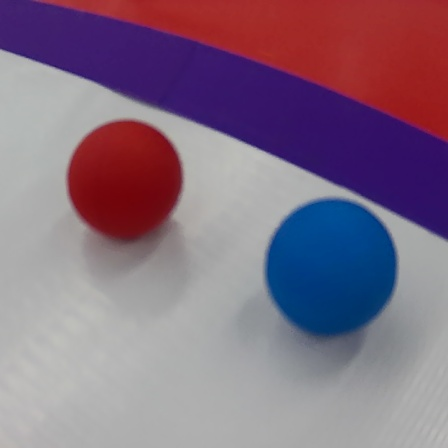blue: (261, 197, 407, 334)
red: (65, 116, 185, 250)
red_aim: (7, 0, 444, 256)
